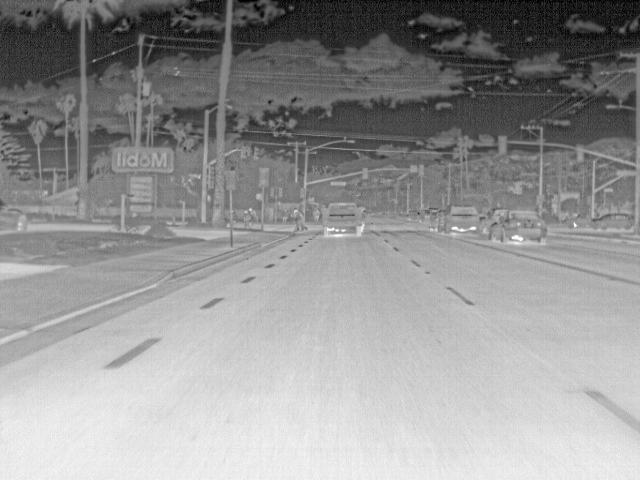car: (485, 207, 546, 244), (322, 201, 366, 238), (433, 204, 481, 234), (1, 196, 28, 233), (593, 211, 635, 230), (419, 206, 433, 224), (403, 207, 419, 221)
person: (291, 207, 307, 233), (243, 208, 252, 230), (251, 207, 259, 222)
